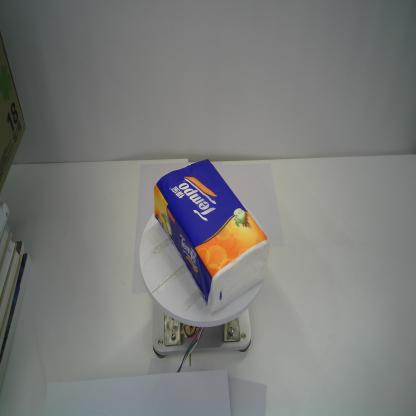Tissue: (152, 157, 270, 316)
